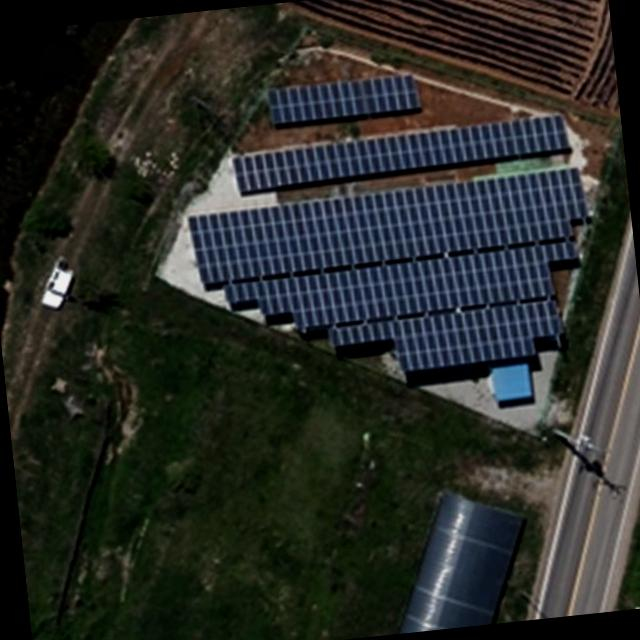solar: (182, 162, 596, 286), (220, 246, 588, 337), (228, 116, 574, 198), (326, 300, 568, 380), (264, 72, 426, 132)
